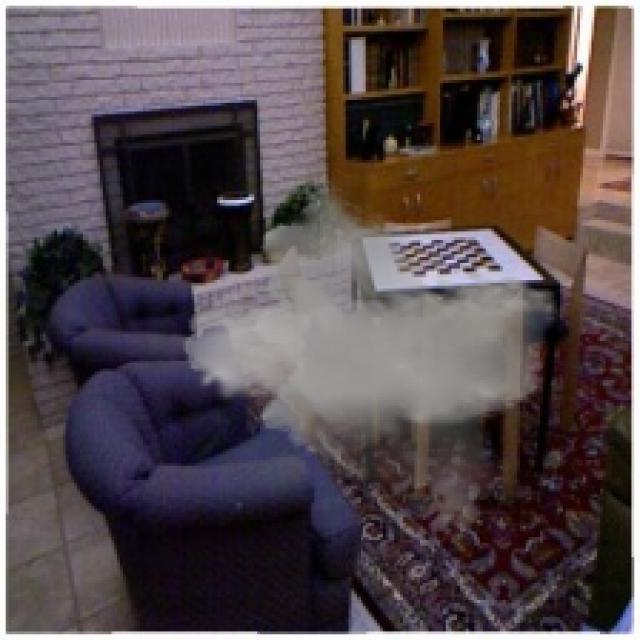Smoke: (183, 177, 560, 543)
